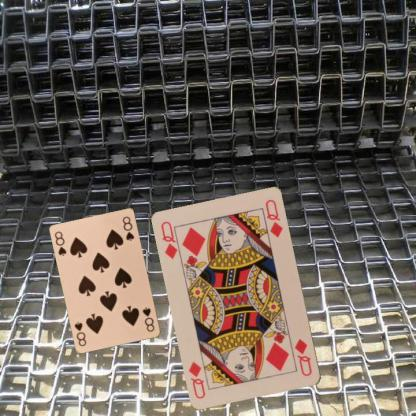8s: (140, 304, 156, 334), (52, 229, 68, 257)
Qd: (158, 218, 184, 262), (292, 336, 314, 378)
